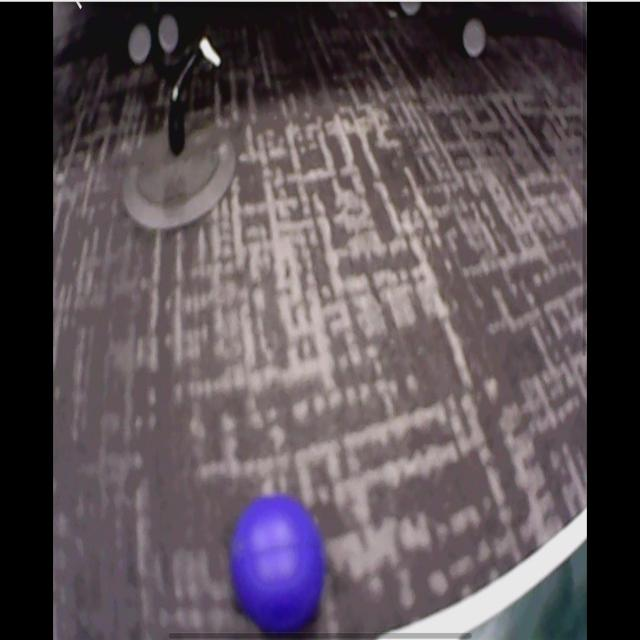ball: (233, 497, 326, 635)
